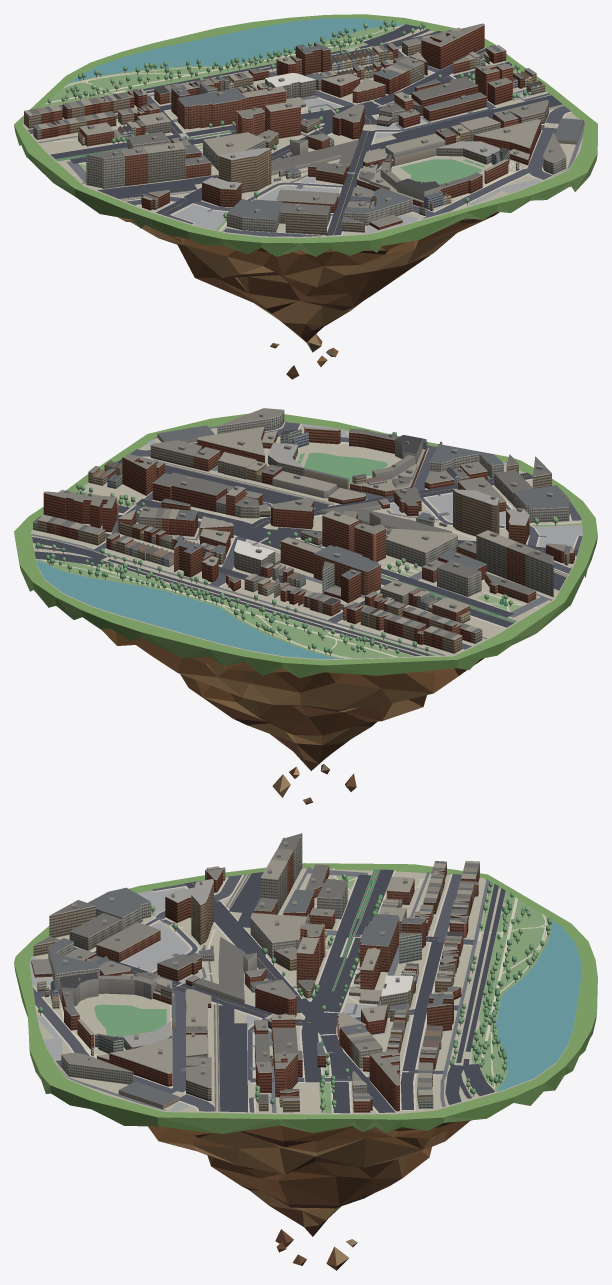
File: segment-place-kencl.glb
The picture shows the model from 3 angles, top to bottom: view 1: azimuth 30°, elevation 25°; view 2: azimuth 150°, elevation 25°; view 3: azimuth 270°, elevation 25°; orthographic projection. The views are drawn at different scales.
Visible parts, largest first — view 1: Masonry, foliage and streets, Brick walk-up elevations, Island turf, Island earth and rock, Stone institutional elevations, Clapboard house elevations; view 2: Masonry, foliage and streets, Brick walk-up elevations, Island earth and rock, Stone institutional elevations, Island turf, Clapboard house elevations; view 3: Masonry, foliage and streets, Island earth and rock, Island turf, Brick walk-up elevations, Stone institutional elevations, Clapboard house elevations.
Part boxes in pixels (x1,y1,x2,y2): Masonry, foliage and streets: (22,18,585,237); Brick walk-up elevations: (24,25,548,235); Island turf: (14,14,597,256); Island earth and rock: (118,186,570,379); Stone institutional elevations: (79,56,566,232); Clapboard house elevations: (78,53,545,215); Masonry, foliage and streets: (31,408,582,660); Brick walk-up elevations: (37,427,574,653); Island earth and rock: (101,629,484,804); Stone institutional elevations: (139,411,569,621); Island turf: (14,413,597,678); Clapboard house elevations: (33,429,470,621); Masonry, foliage and streets: (29,833,581,1114); Island earth and rock: (148,1120,471,1270); Island turf: (14,863,597,1133); Brick walk-up elevations: (31,863,479,1112); Stone institutional elevations: (48,834,463,1096); Clapboard house elevations: (37,902,454,1111).
Size of the model in its own units: 0.8708 by 0.4947 by 0.8375.
7 materials, 4 textured.
